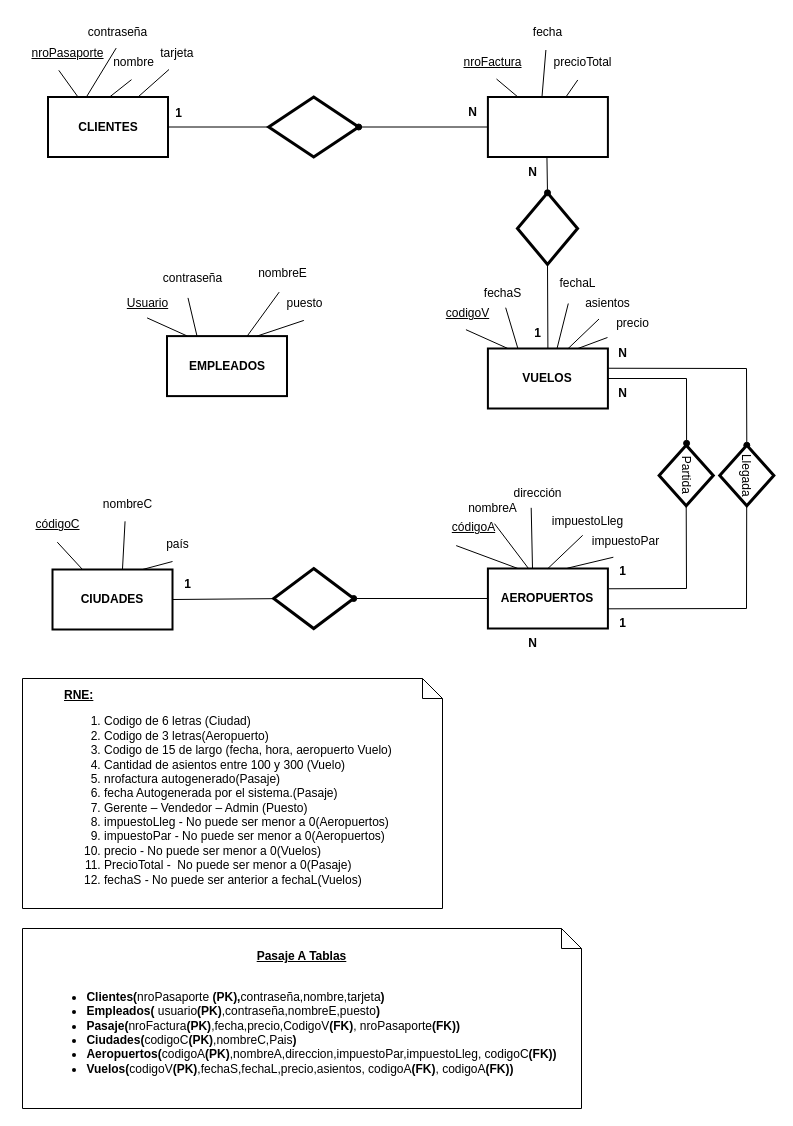
Image size: 793x1126. Some labels were removed from this diagram. The shapes that lost their labels are listed below. From the top down, each one's centre as x and y in pixels, then its label:
(313,126): Accede
(547,127): PASAJES
(547,228): Asignan
(313,598): Estan
